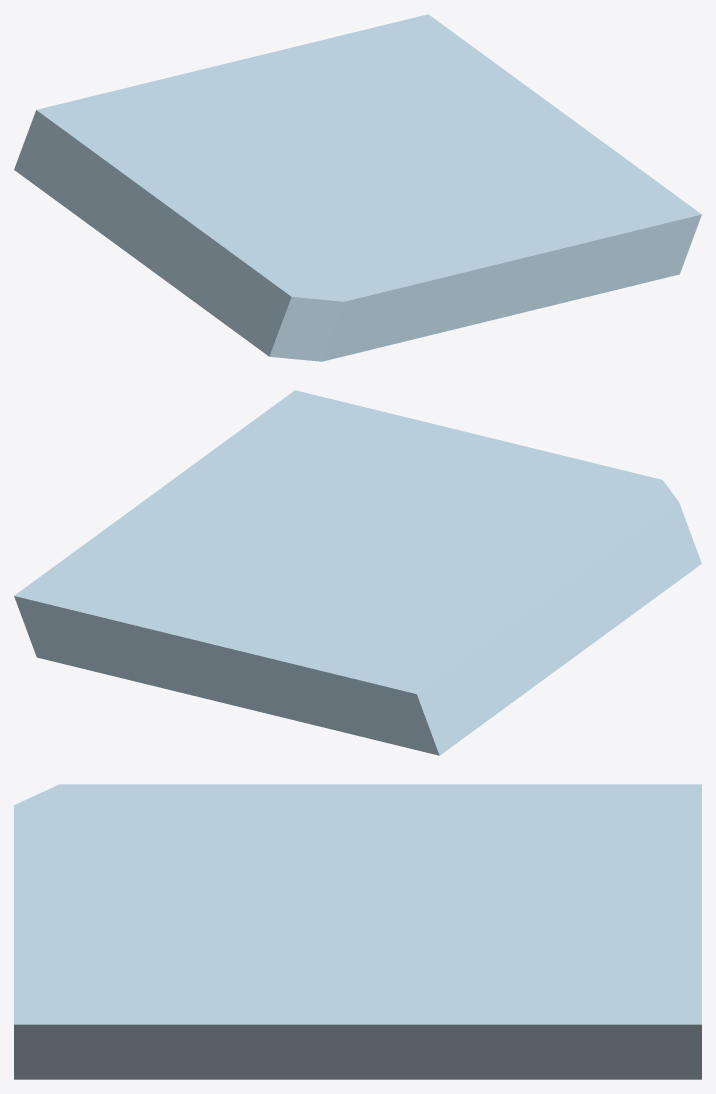
File: STAM - A3-1.gltf
3 renders of one model, top to bottom at view 1: azimuth 30°, elevation 25°; view 2: azimuth 150°, elevation 25°; view 3: azimuth 270°, elevation 25°, orthographic. The views are drawn at different scales.
Visible parts, largest first — view 1: A3-1; view 2: A3-1; view 3: A3-1.
Boxes of the visible parts, x1,y1,x2,y2 form: A3-1: (14,14,701,361); A3-1: (14,390,701,755); A3-1: (14,784,701,1079).
Bounding box in the file's own units: 0.0131 × 0.00165 × 0.015.
